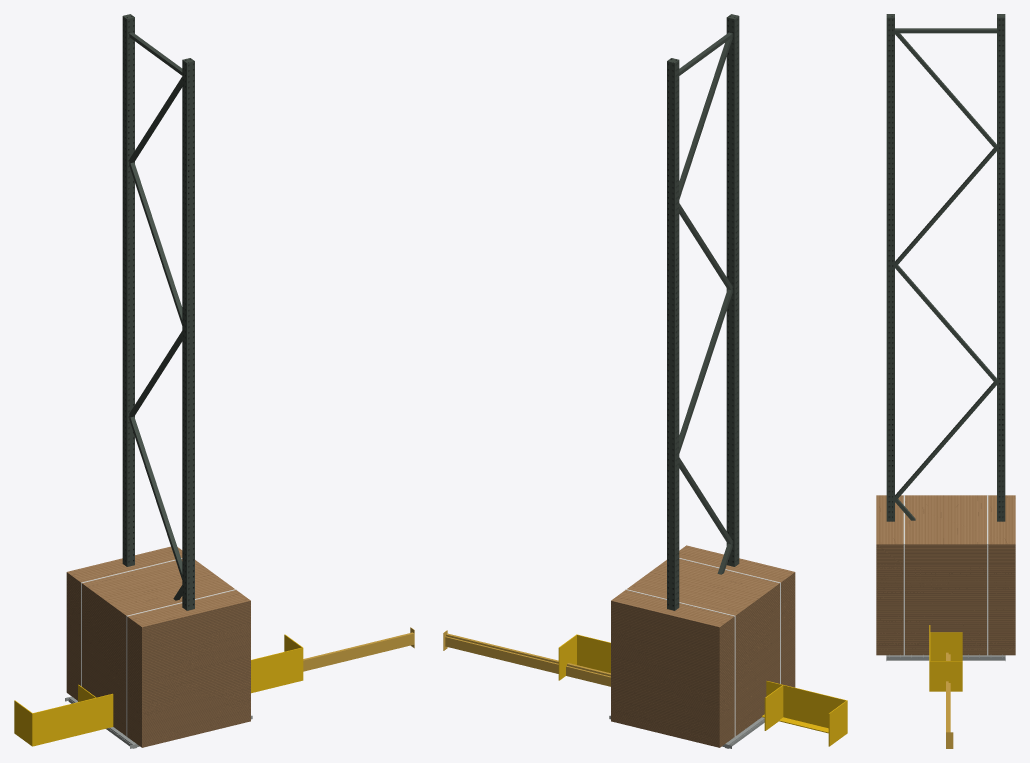
The model's file is racking.glb.
The picture shows the model from 3 angles, left to right: view 1: azimuth 30°, elevation 25°; view 2: azimuth 150°, elevation 25°; view 3: azimuth 270°, elevation 25°; orthographic projection. The views are drawn at different scales.
Parts seen in each view (by area): view 1: BoardBundle110, RackFrame, BoardBundle060, RowEndGuardDouble, BoardBundle090, RackBeam; view 2: BoardBundle110, RackFrame, BoardBundle060, RowEndGuardDouble, BoardBundle090, RackBeam, RowEndGuardSingle; view 3: BoardBundle110, RackFrame, BoardBundle090, BoardBundle060, RowEndGuardDouble, RowEndGuardSingle, RackDeck, RackBeam.
Part boxes in pixels (bbox=[...]): BoardBundle110: bbox=[66, 546, 250, 746]; RackFrame: bbox=[122, 14, 194, 610]; BoardBundle060: bbox=[66, 629, 250, 747]; RowEndGuardDouble: bbox=[14, 634, 303, 746]; BoardBundle090: bbox=[66, 598, 250, 746]; RackBeam: bbox=[303, 627, 414, 671]; BoardBundle110: bbox=[611, 545, 795, 747]; RackFrame: bbox=[667, 14, 739, 610]; BoardBundle060: bbox=[611, 627, 795, 747]; RowEndGuardDouble: bbox=[558, 634, 847, 746]; BoardBundle090: bbox=[611, 596, 795, 746]; RackBeam: bbox=[443, 630, 610, 686]; RowEndGuardSingle: bbox=[762, 681, 783, 730]; BoardBundle110: bbox=[876, 495, 1015, 655]; RackFrame: bbox=[886, 14, 1005, 521]; BoardBundle090: bbox=[876, 564, 1015, 655]; BoardBundle060: bbox=[876, 594, 1015, 655]; RowEndGuardDouble: bbox=[929, 632, 962, 691]; RowEndGuardSingle: bbox=[929, 625, 962, 660]; RackDeck: bbox=[886, 654, 1005, 660]; RackBeam: bbox=[946, 652, 953, 748].
Size of the model in its own units: 3.74 by 6.28 by 1.25.
15 materials, 8 textured.
